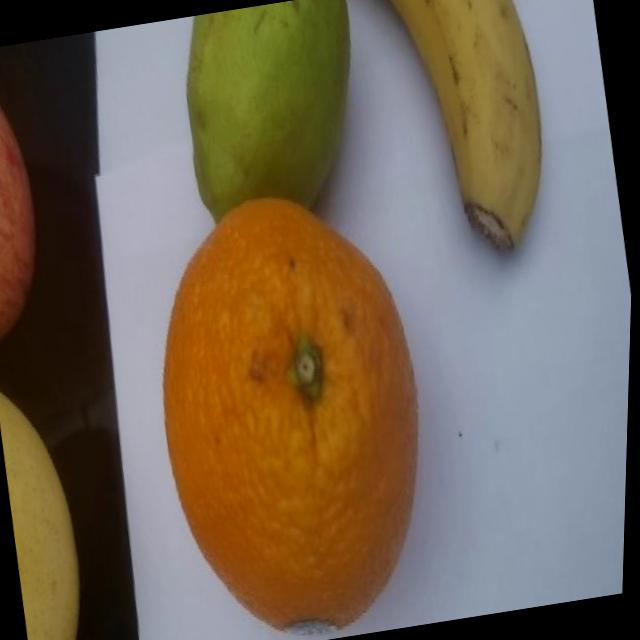Apple: (0, 46, 60, 349)
Banana: (373, 0, 564, 267)
Orange: (128, 178, 460, 640)
